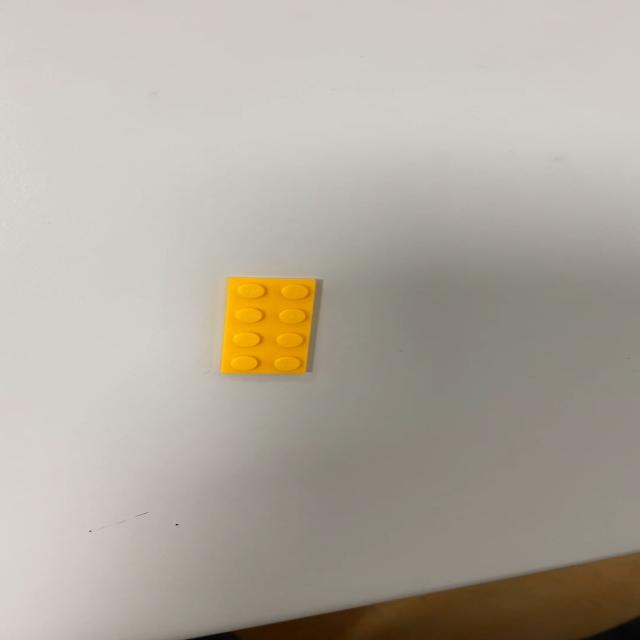C4x2x0: (219, 276, 318, 375)
